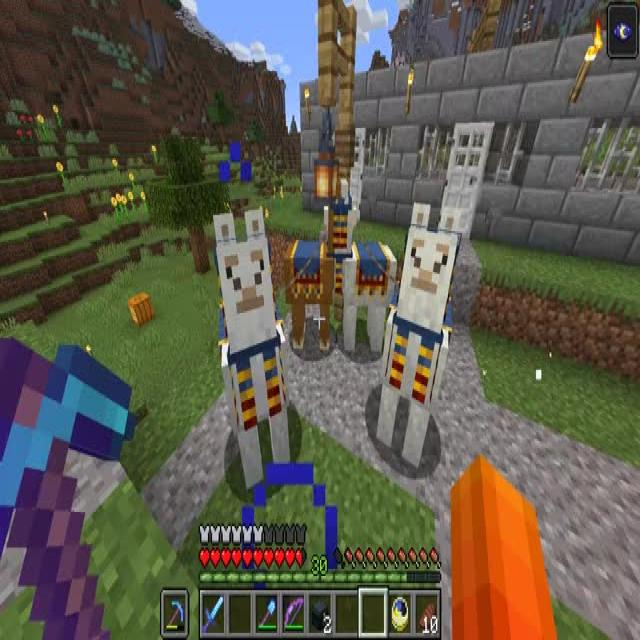Trader Lama: (210, 203, 295, 494), (374, 199, 463, 471), (334, 174, 400, 363), (284, 171, 348, 358)
